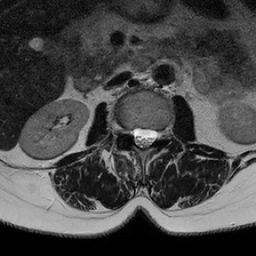CCS_normal: (140, 121, 149, 155)
LFS_normal: (157, 122, 165, 147)
LLS_normal: (149, 121, 157, 153)
RFS_stenosis: (123, 120, 131, 141)
RLS_normal: (131, 121, 140, 150)
